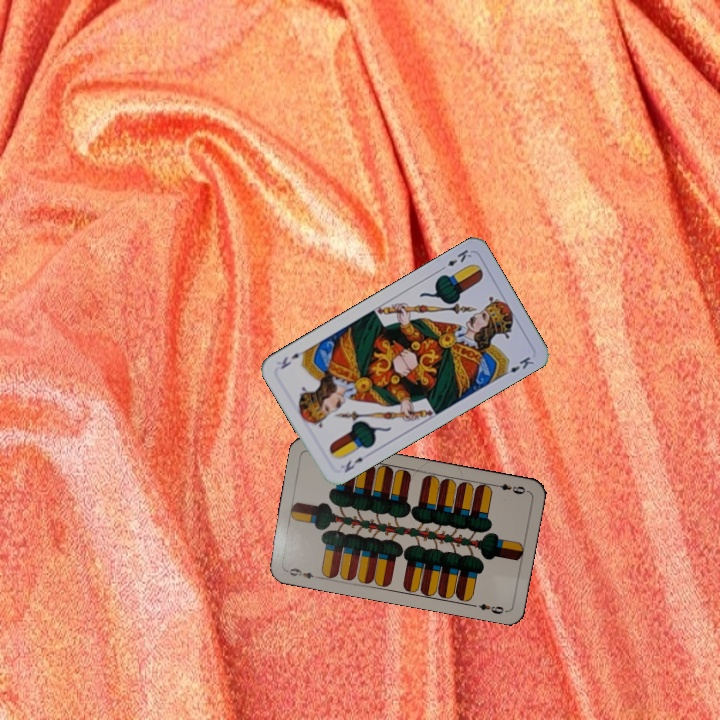E9: (489, 480, 530, 497), (282, 564, 322, 581)
EK: (436, 245, 474, 274), (340, 453, 365, 475)
